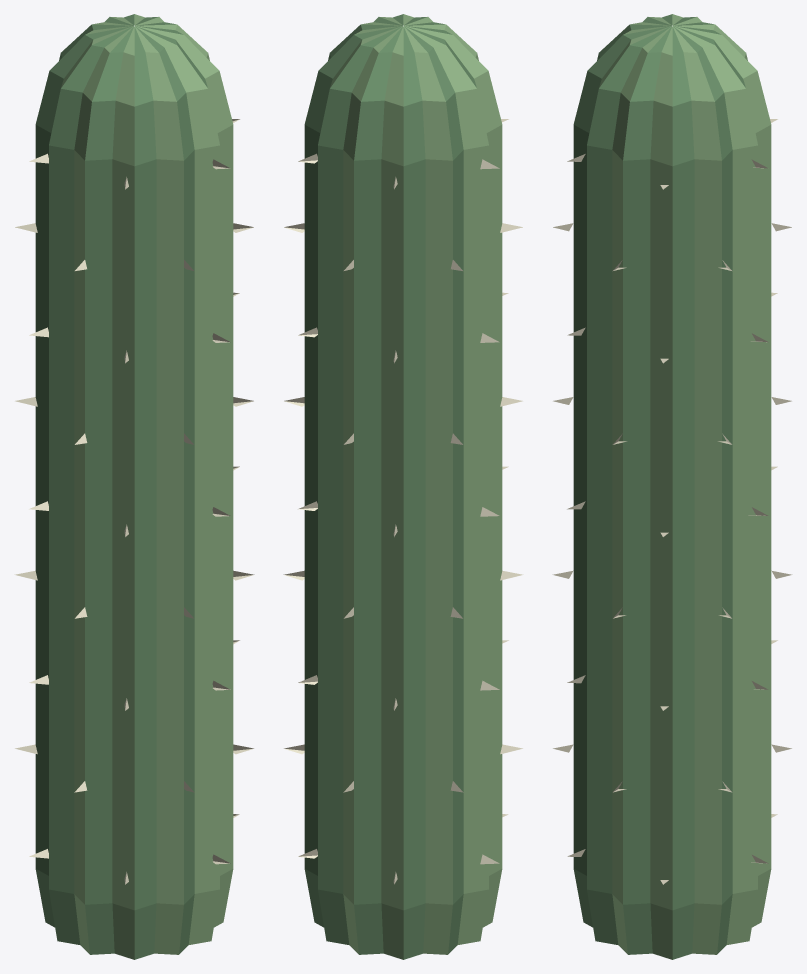
Rendered from cactus-saguaro-young.glb.
The picture shows the model from 3 angles, left to right: view 1: azimuth 30°, elevation 25°; view 2: azimuth 150°, elevation 25°; view 3: azimuth 270°, elevation 25°; orthographic projection.
Parts seen in each view (by area): view 1: cactus-saguaro-young; view 2: cactus-saguaro-young; view 3: cactus-saguaro-young.
Boxes of the visible parts, x1,y1,x2,y2 form: cactus-saguaro-young: [14, 14, 254, 959]; cactus-saguaro-young: [283, 14, 523, 959]; cactus-saguaro-young: [552, 14, 792, 959].
Bounding box in the file's own units: 0.3073 × 1.3 × 0.316.
